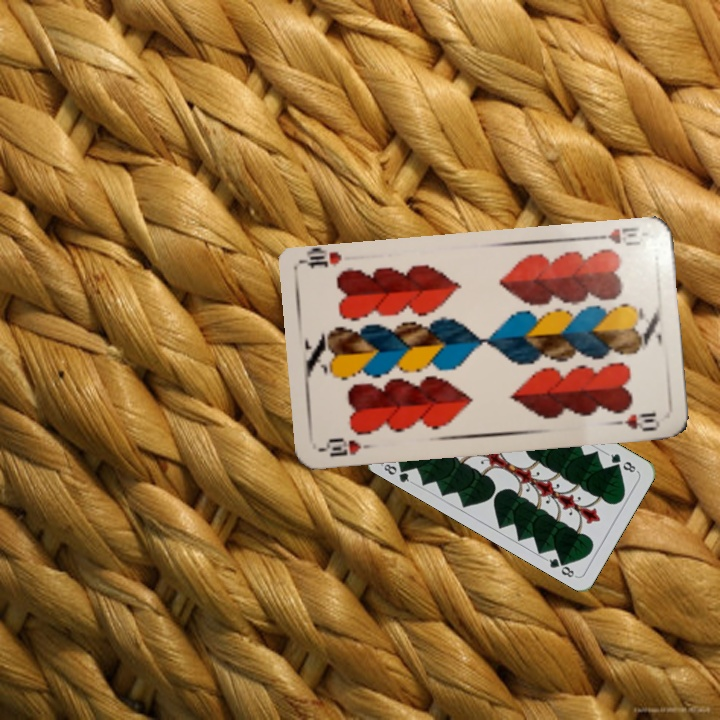G8: (378, 459, 415, 486), (603, 449, 640, 475)
H10: (317, 434, 376, 459), (590, 223, 643, 249)
